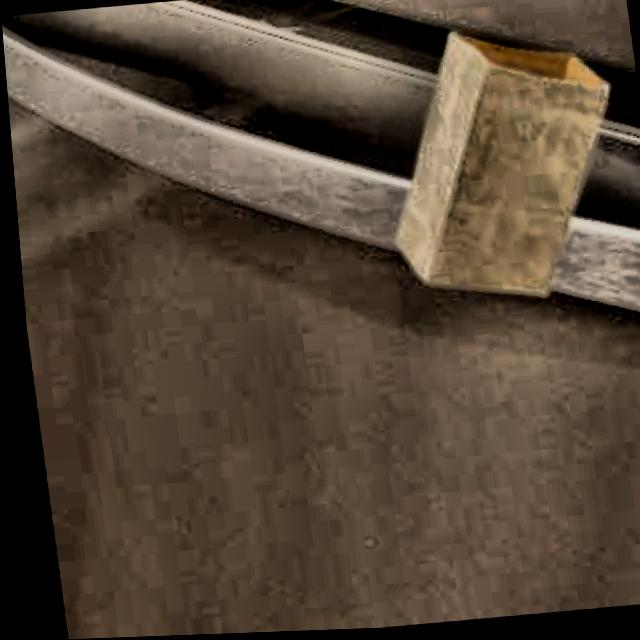Paper-bag: (358, 14, 634, 334)
